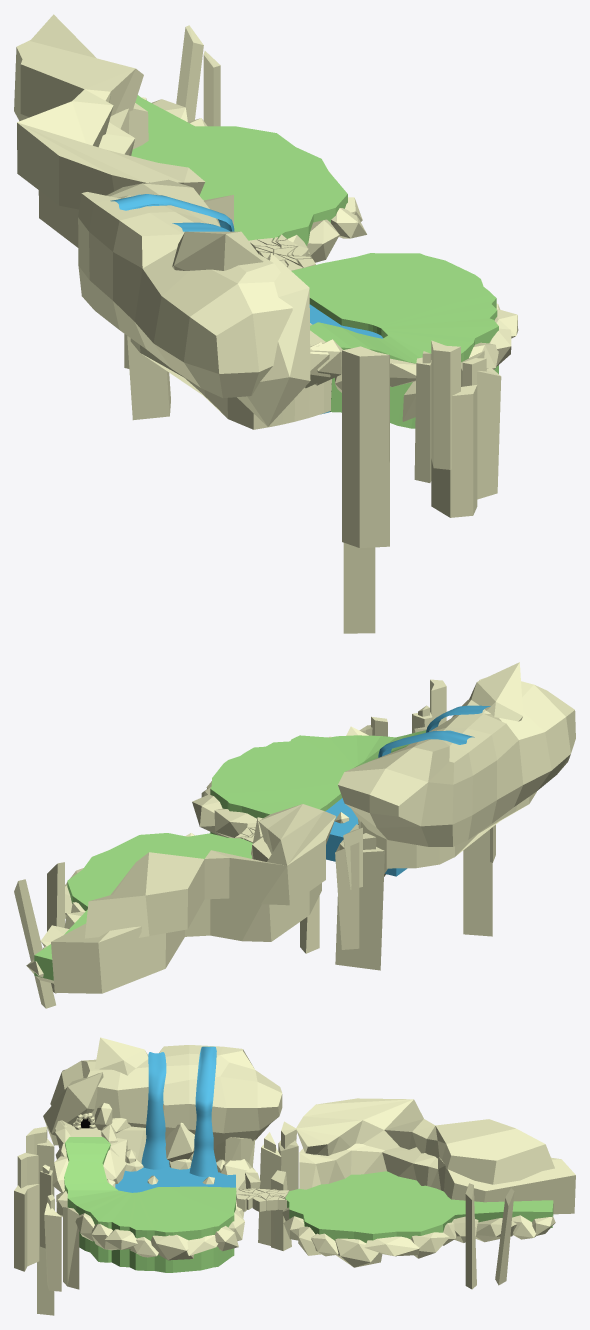
File: crete vallery 11.30.25.fbx
The picture shows the model from 3 angles, top to bottom: view 1: azimuth 30°, elevation 25°; view 2: azimuth 150°, elevation 25°; view 3: azimuth 270°, elevation 25°; orthographic projection. The views are drawn at different scales.
Parts seen in each view (by area): view 1: Cube.001, Curve.089, Curve.085, Curve.086, Curve.070, Icosphere.001, Curve.087, Curve.022, Curve.038, Curve.071, Icosphere.003, Curve.072 (+7 smaller); view 2: Cube.001, Curve.089, Curve.022, Curve.085, Curve.086, Curve.066, Curve.072, Curve.038, Curve.067, Icosphere.003, Curve.091, Curve.090 (+8 smaller); view 3: Curve.089, Curve.085, Cube.001, Curve.086, Curve.022, Plane.004, Plane, Curve.087, Icosphere.001, Cube.005, Curve.038, Curve.072 (+30 smaller).
Part boxes in pixels (x1,y1,x2,y2): Cube.001: (78, 179, 292, 398); Curve.089: (17, 14, 204, 209); Curve.085: (291, 253, 498, 428); Curve.086: (131, 95, 347, 245); Curve.070: (342, 346, 389, 547); Icosphere.001: (237, 253, 310, 426); Curve.087: (431, 385, 477, 517); Curve.022: (14, 40, 233, 247); Curve.038: (130, 330, 331, 429); Curve.071: (431, 340, 460, 469); Icosphere.003: (172, 231, 263, 270); Curve.072: (343, 543, 375, 633); Cube.001: (338, 681, 575, 846); Curve.089: (85, 804, 336, 938); Curve.022: (51, 817, 321, 993); Curve.085: (210, 730, 426, 837); Curve.086: (34, 833, 252, 980); Curve.066: (335, 847, 384, 970); Curve.072: (463, 829, 492, 936); Curve.038: (358, 791, 536, 869); Curve.067: (335, 842, 359, 949); Icosphere.003: (469, 662, 523, 721); Curve.091: (14, 879, 55, 1008); Curve.090: (47, 862, 64, 993); Curve.089: (296, 1098, 554, 1184); Curve.085: (64, 1137, 236, 1272); Cube.001: (50, 1045, 282, 1148); Curve.086: (285, 1171, 553, 1242); Curve.022: (299, 1143, 575, 1214); Plane.004: (189, 1046, 217, 1176); Plane: (141, 1052, 169, 1169); Curve.087: (14, 1184, 39, 1271); Icosphere.001: (43, 1072, 103, 1145); Cube.005: (115, 1167, 235, 1192); Curve.038: (70, 1126, 255, 1167); Curve.072: (37, 1138, 54, 1315).
Bounding box in the file's own units: 22573 × 21807 × 45232.
